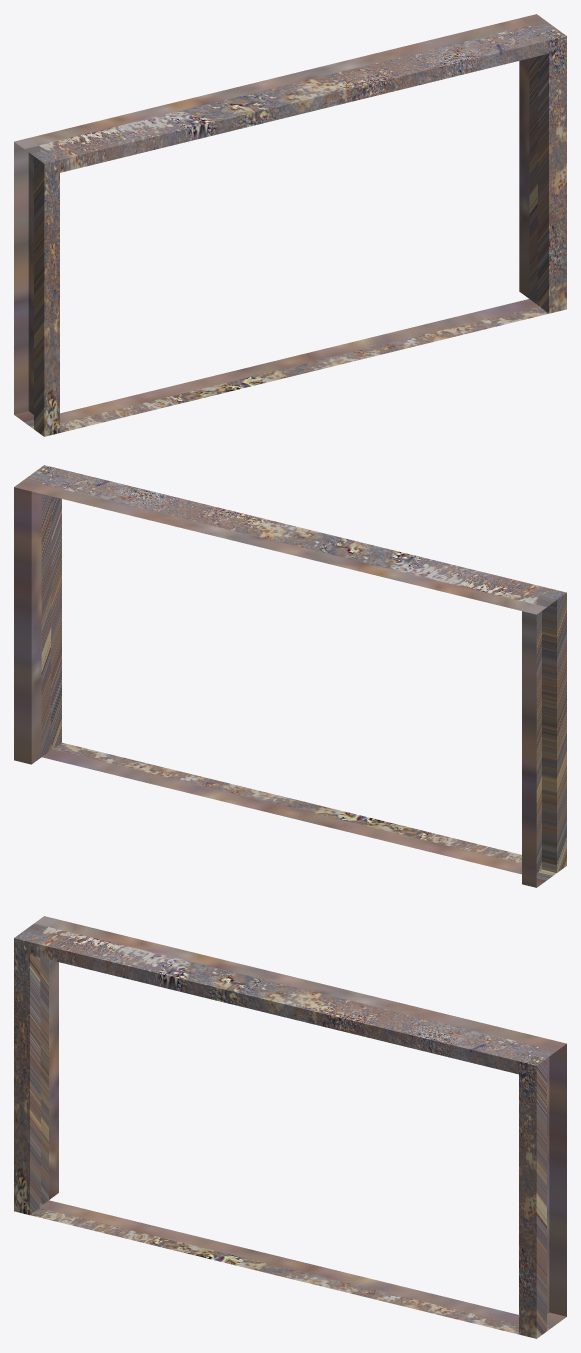
File: New frame Large.dae
3 views of the same model, one above another, from view 1: azimuth 30°, elevation 25°; view 2: azimuth 150°, elevation 25°; view 3: azimuth 330°, elevation 25° (orthographic).
Visible parts, largest first — view 1: Cube4_copy15-0; view 2: Cube4_copy15-0; view 3: Cube4_copy15-0.
Part boxes in pixels (<box>): Cube4_copy15-0: <box>14,14,566,436</box>; Cube4_copy15-0: <box>14,465,566,887</box>; Cube4_copy15-0: <box>14,916,566,1338</box>.
Size of the model in its own units: 4.99 by 2.49 by 0.5.
